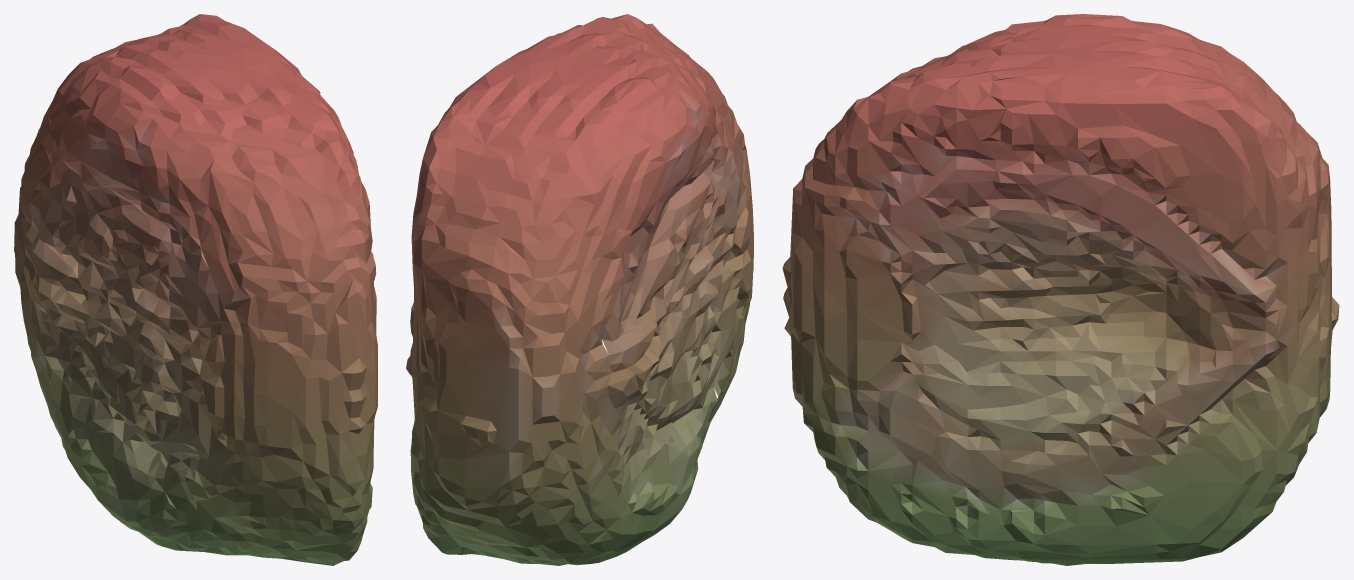
File: snap_maw.glb
3 renders of one model, left to right at view 1: azimuth 30°, elevation 25°; view 2: azimuth 150°, elevation 25°; view 3: azimuth 270°, elevation 25°, orthographic. The views are drawn at different scales.
Parts seen in each view (by area): view 1: world; view 2: world; view 3: world.
Part boxes in pixels (x1=…): world: x1=14, y1=14, x2=377, y2=565; world: x1=406, y1=14, x2=753, y2=565; world: x1=782, y1=14, x2=1339, y2=565.
Bounding box in the file's own units: 0.3286 × 0.7 × 0.712.
